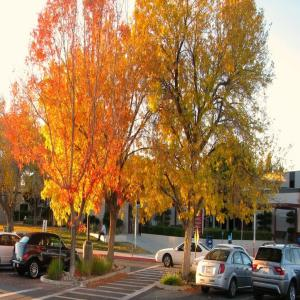Vehicle-registration-plate: (264, 269, 270, 274)
